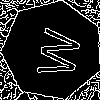W: (27, 25, 82, 80)
